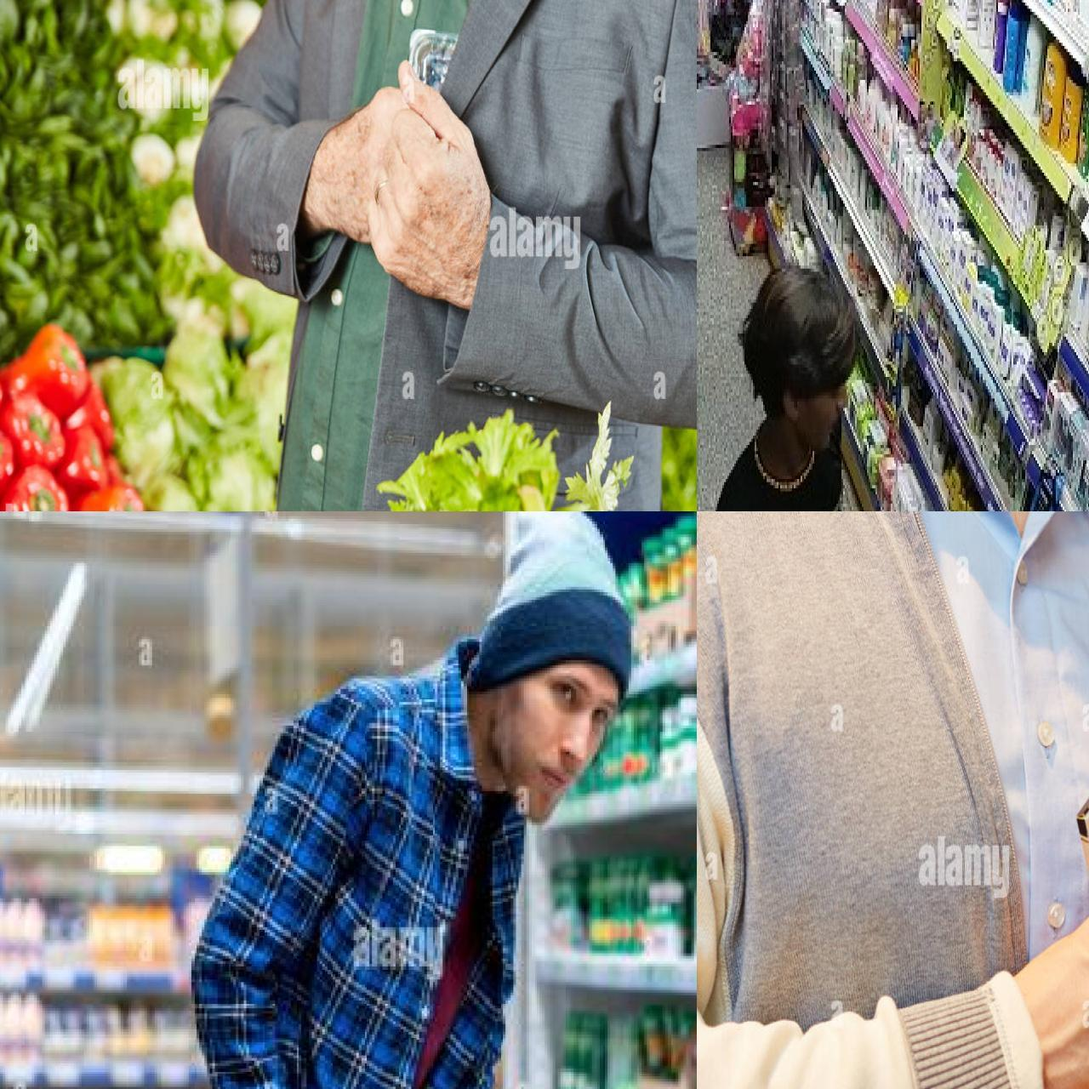shoplifting: (72, 1, 635, 418)
